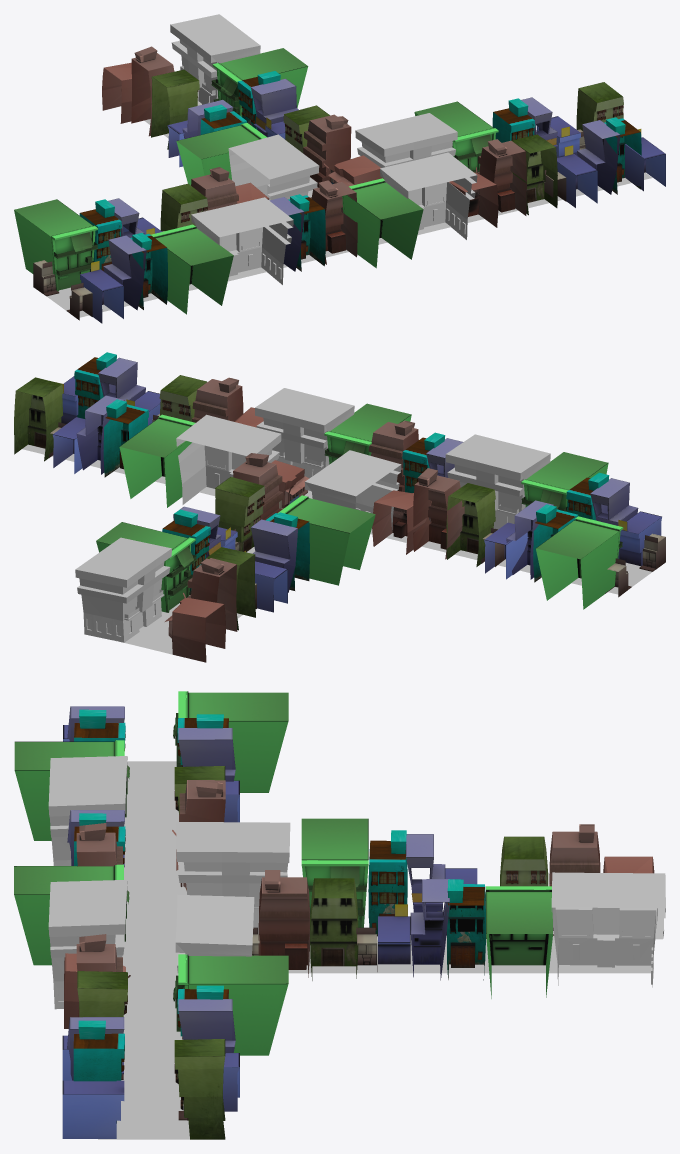
File: crossing_RL_v1.fbx
3 views of the same model, one above another, from view 1: azimuth 30°, elevation 25°; view 2: azimuth 150°, elevation 25°; view 3: azimuth 270°, elevation 25° (orthographic). The views are drawn at different scales.
Visible parts, largest first — view 1: group23, group21, BLT_09, group20, BLT_014, BLT_01, BLT_03, group22, group19, BLT_05, BL_T_07, BL_T_05 (+28 smaller); view 2: group21, BLT_03, group22, group23, group20, group19, BLT_05, BLT_014, BLT_09, BLT_01, BL_T_09, brokenShop (+29 smaller); view 3: polySurface26, group22, group23, BLT_03, group19, BLT_01, group21, group20, BLT_014, BLT_09, BLT_05, BL_T_05 (+24 smaller).
Boxes of the visible parts, <box> form: group23: <box>151,134,557,314</box>; group21: <box>14,183,208,291</box>; BLT_09: <box>191,197,293,284</box>; group20: <box>151,69,266,185</box>; BLT_014: <box>380,152,477,239</box>; BLT_01: <box>228,134,319,200</box>; BLT_03: <box>170,14,260,104</box>; group22: <box>414,82,623,172</box>; group19: <box>211,48,329,153</box>; BLT_05: <box>355,113,457,167</box>; BL_T_07: <box>477,139,526,215</box>; BL_T_05: <box>303,114,351,187</box>; group21: <box>446,483,623,609</box>; BLT_03: <box>75,537,171,642</box>; group22: <box>14,377,195,507</box>; group23: <box>159,375,608,511</box>; group20: <box>205,495,375,630</box>; group19: <box>96,477,264,612</box>; BLT_05: <box>176,414,281,504</box>; BLT_014: <box>255,388,354,478</box>; BLT_09: <box>445,434,550,529</box>; BLT_01: <box>304,450,401,531</box>; BL_T_09: <box>413,468,464,559</box>; brokenShop: <box>165,592,225,662</box>; polySurface26: <box>98,761,653,1139</box>; group22: <box>173,954,288,1139</box>; group23: <box>14,740,129,1017</box>; BLT_03: <box>551,872,665,987</box>; group19: <box>310,878,552,998</box>; BLT_01: <box>176,821,290,934</box>; group21: <box>173,691,288,814</box>; group20: <box>301,818,548,927</box>; BLT_014: <box>48,879,127,1009</box>; BLT_09: <box>48,756,127,865</box>; BLT_05: <box>175,894,254,972</box>; BL_T_05: <box>258,870,309,977</box>.
Bounding box in the file's own units: 101 × 12.52 × 73.02.
